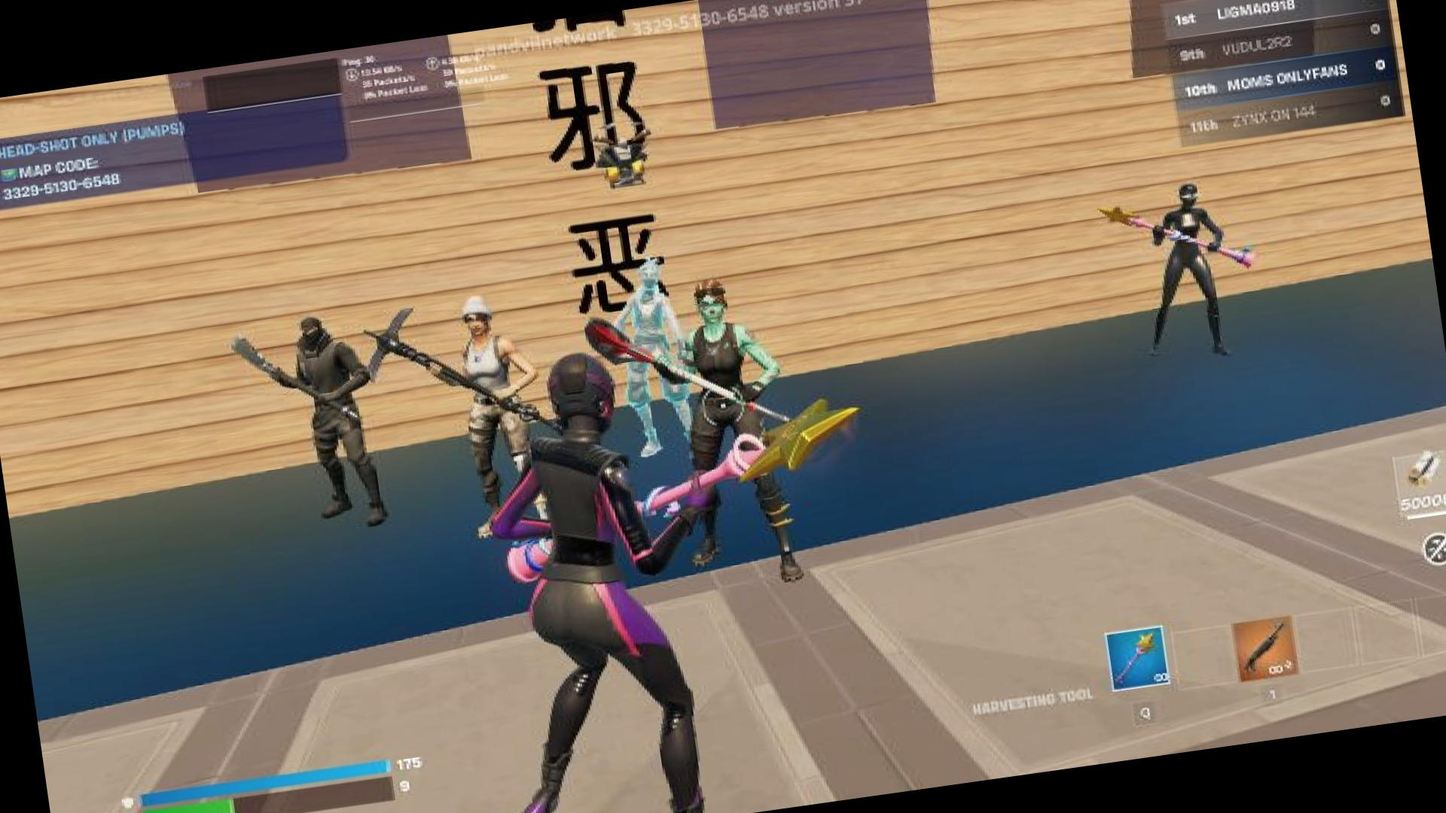player: (653, 276, 830, 600), (420, 285, 562, 542), (260, 301, 410, 544), (1121, 171, 1257, 373), (594, 254, 713, 460)
